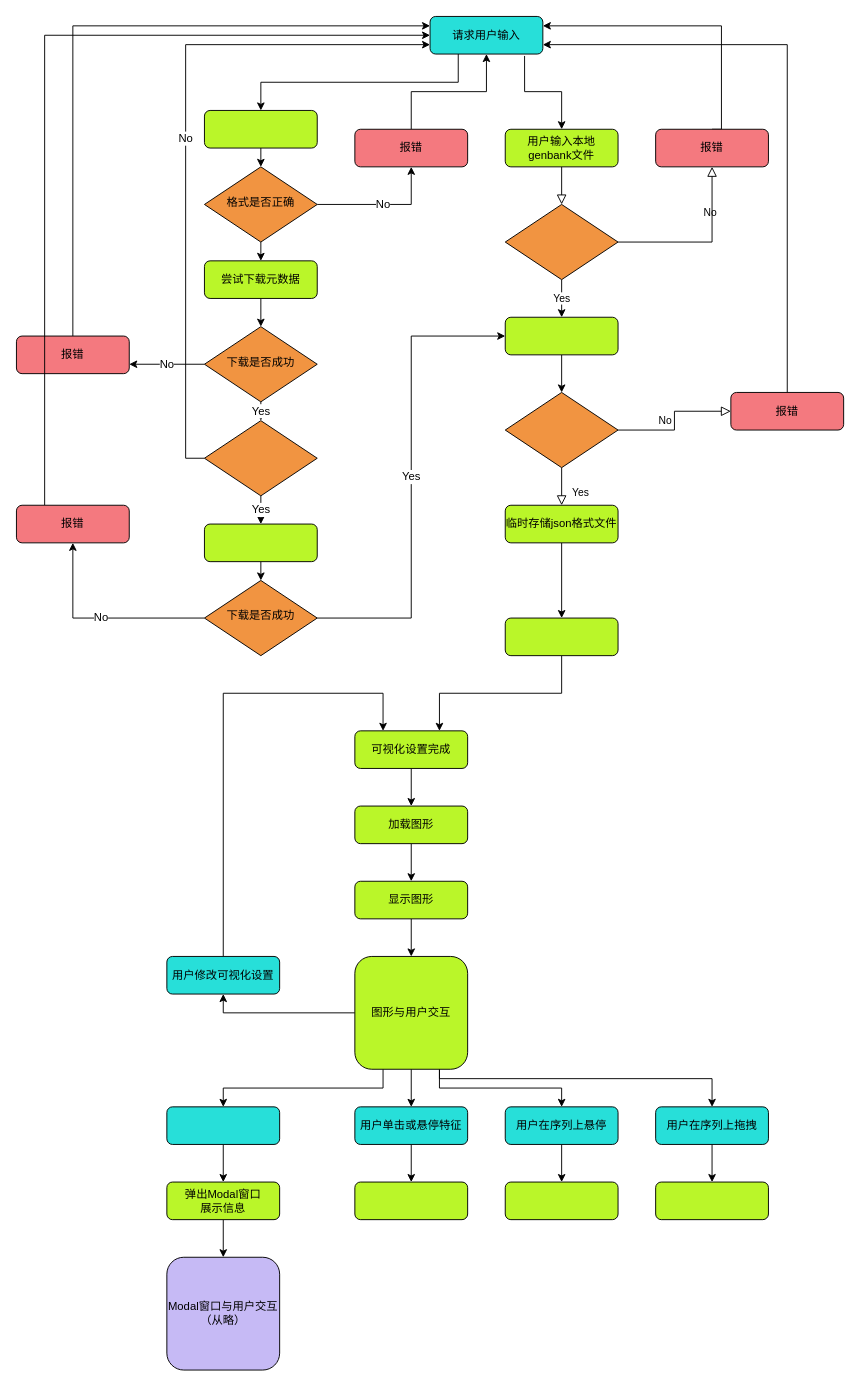
This 860x1387 diagram has some shape labels left out. The centre of each missing label's shape, as x and y in pixels:
"初始化 默认可视化设置" belongs at point (561, 636).
"后缀名是否正确" belongs at point (561, 242).
"尝试下载数据" belongs at point (260, 542).
"尝试解析" belongs at point (561, 335).
"展示特效和 当前长度、位置" belongs at point (711, 1200).
"展示特效和当前位置" belongs at point (561, 1200).
"展示特效和更多信息" belongs at point (411, 1200).
"是否解析成功" belongs at point (561, 430).
"用户双击特征" belongs at point (223, 1125).
"用户输入 genbank数据库编号" belongs at point (260, 129).
"请求用户确认" belongs at point (260, 458).
